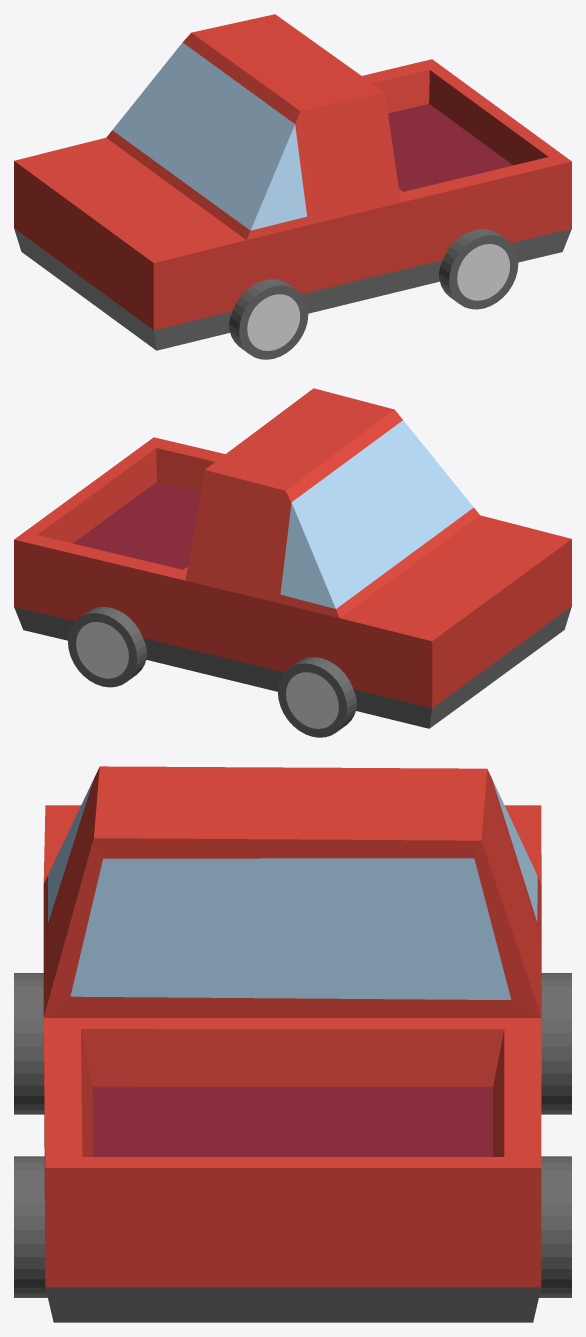
Rendered from truck_red.fbx.
3 views of the same model, one above another, from view 1: azimuth 30°, elevation 25°; view 2: azimuth 150°, elevation 25°; view 3: azimuth 270°, elevation 25° (orthographic). The views are drawn at different scales.
Visible parts, largest first — view 1: Cube, Cube.001; view 2: Cube, Cube.001; view 3: Cube, Cube.001.
Part boxes in pixels (x1,y1,x2,y2): Cube: (14, 14, 571, 350); Cube.001: (229, 229, 518, 359); Cube: (14, 388, 571, 728); Cube.001: (68, 607, 356, 737); Cube: (43, 766, 541, 1322); Cube.001: (14, 973, 571, 1297).
Bounding box in the file's own units: 623 × 311 × 406.
